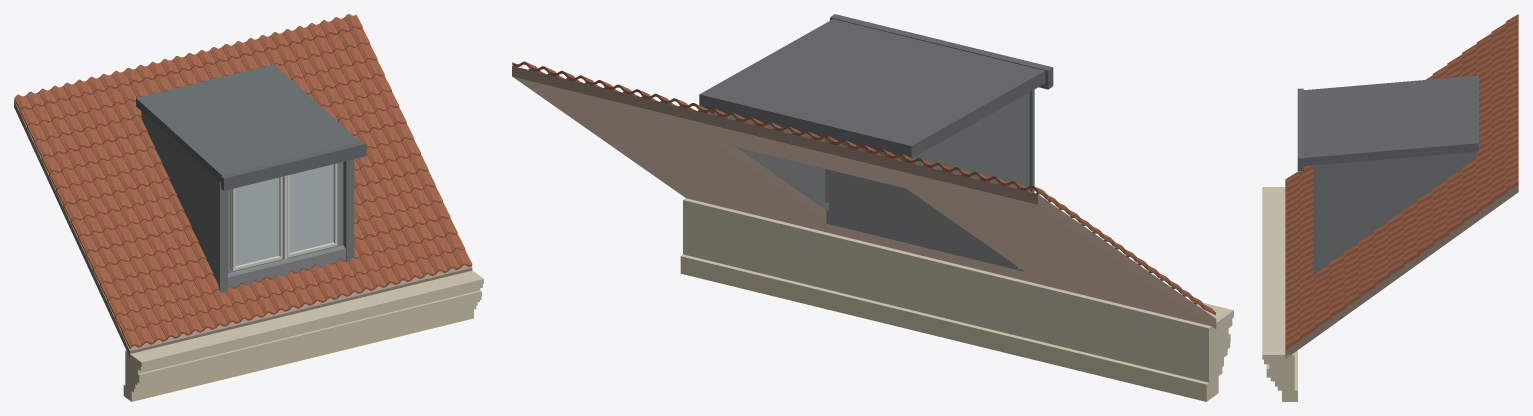
Rendered from baoqing-lane9-two-light-tiled-dormer-near.glb.
3 renders of one model, left to right at view 1: azimuth 30°, elevation 25°; view 2: azimuth 150°, elevation 25°; view 3: azimuth 270°, elevation 25°, orthographic. The views are drawn at different scales.
Visible parts, largest first — view 1: 宝庆路9弄住宅红瓦坡面的双扇老虎窗; view 2: 宝庆路9弄住宅红瓦坡面的双扇老虎窗; view 3: 宝庆路9弄住宅红瓦坡面的双扇老虎窗.
Part boxes in pixels (x1=…): 宝庆路9弄住宅红瓦坡面的双扇老虎窗: x1=14, y1=14, x2=483, y2=401; 宝庆路9弄住宅红瓦坡面的双扇老虎窗: x1=512, y1=14, x2=1233, y2=401; 宝庆路9弄住宅红瓦坡面的双扇老虎窗: x1=1262, y1=14, x2=1518, y2=401.
Bounding box in the file's own units: 3 × 1.84 × 1.93.
Materials: 10 (1 with a texture image).
